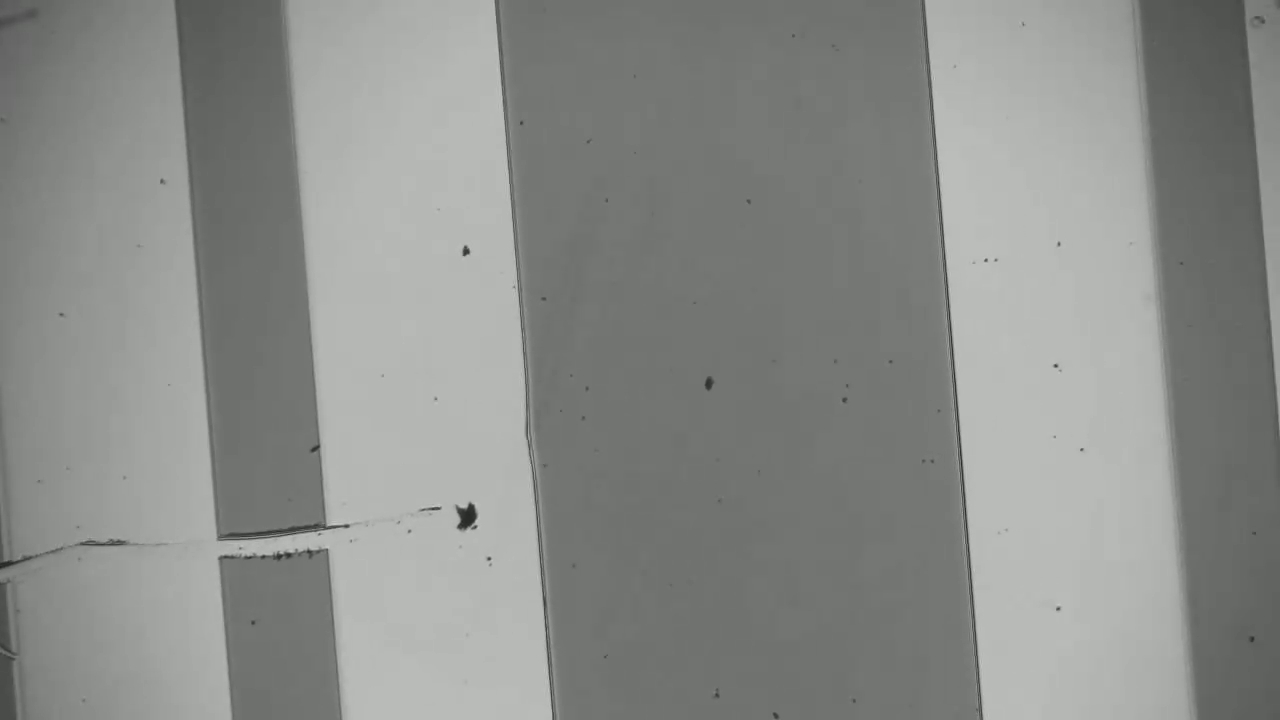Short_circuit: (208, 507, 358, 583)
